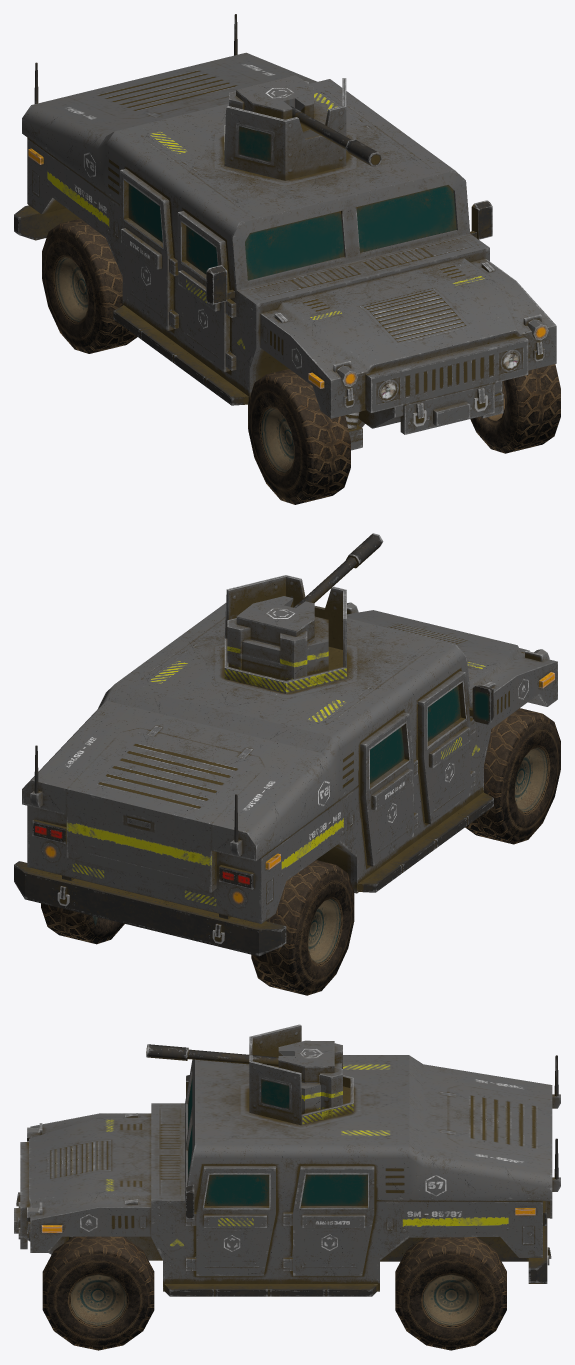
File: Humvee_armor_turret.fbx
The picture shows the model from 3 angles, top to bottom: view 1: azimuth 30°, elevation 25°; view 2: azimuth 150°, elevation 25°; view 3: azimuth 270°, elevation 25°; orthographic projection. The views are drawn at different scales.
Parts seen in each view (by area): view 1: Humvee, turret_base, W_Right_Front, W_Rear_Right, W_LeftFront; view 2: Humvee, turret_base, W_Rear_Right, W_Right_Front, W_Rear_Left; view 3: Humvee, W_LeftFront, W_Rear_Left, turret_base.
Part boxes in pixels (bbox=[...]): Humvee: bbox=[14, 14, 556, 450]; turret_base: bbox=[224, 75, 382, 180]; W_Right_Front: bbox=[248, 369, 350, 504]; W_Rear_Right: bbox=[42, 218, 137, 353]; W_LeftFront: bbox=[470, 364, 560, 453]; Humvee: bbox=[14, 602, 557, 956]; turret_base: bbox=[224, 533, 383, 693]; W_Rear_Right: bbox=[251, 860, 354, 995]; W_Right_Front: bbox=[465, 708, 560, 844]; W_Rear_Left: bbox=[41, 903, 124, 944]; Humvee: bbox=[14, 1055, 560, 1296]; W_LeftFront: bbox=[42, 1236, 154, 1350]; W_Rear_Left: bbox=[395, 1237, 506, 1350]; turret_base: bbox=[146, 1024, 353, 1125].
Bounding box in the file's own units: 246 × 245 × 480.
